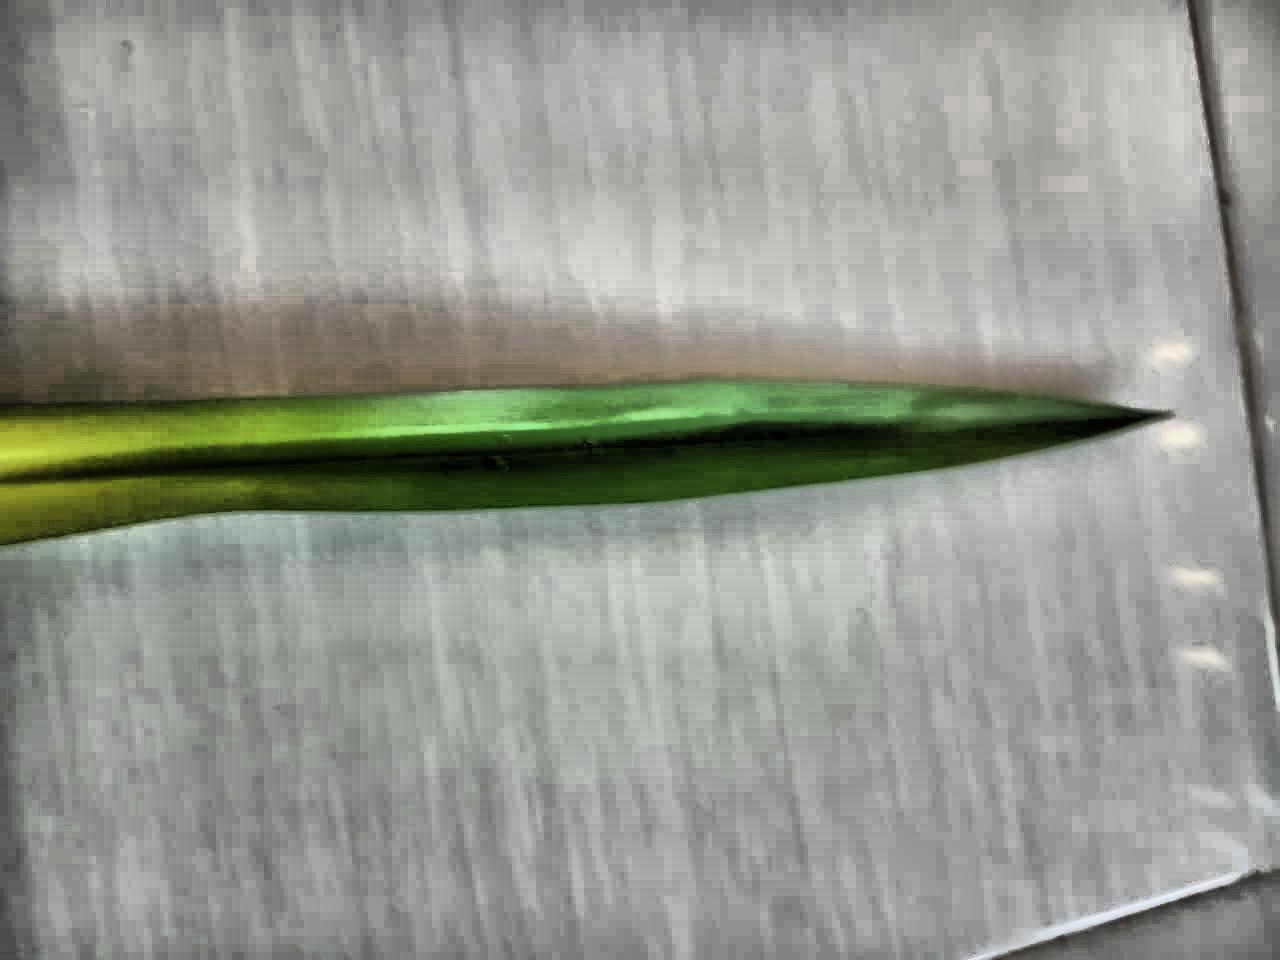daun pandan: (0, 381, 1156, 545)
